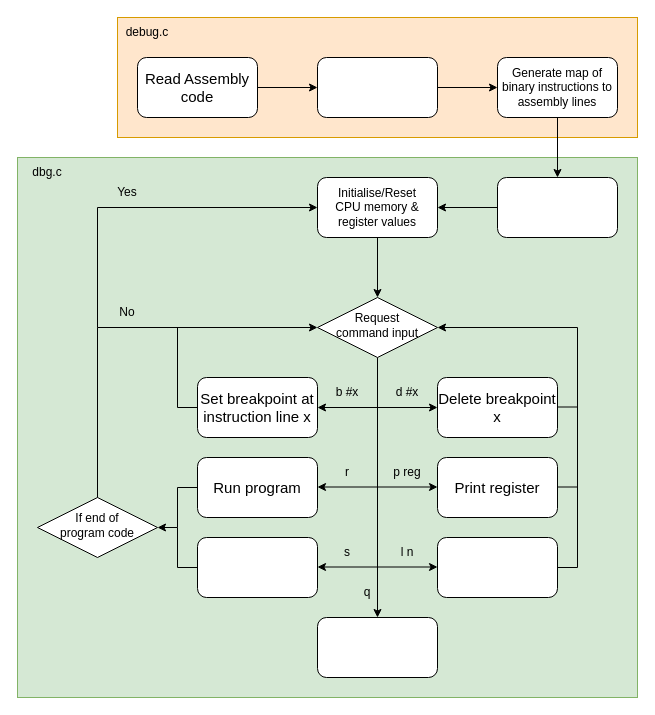
This 655x715 diagram has some shape labels left out. Here are the shapes that lost their labels. From the top down, the centre of each, then its label:
At (377,87): "Assemble code".
At (557,207): "Start debugging".
At (257,567): "Step through next instruction".
At (497,567): "Print next instruction line".
At (377,647): "Quit debugger".
